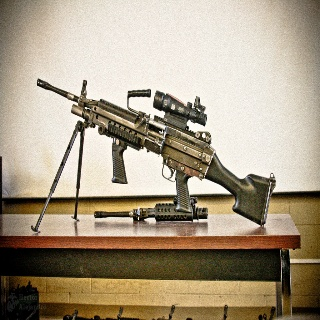rifle: (30, 77, 277, 230)
